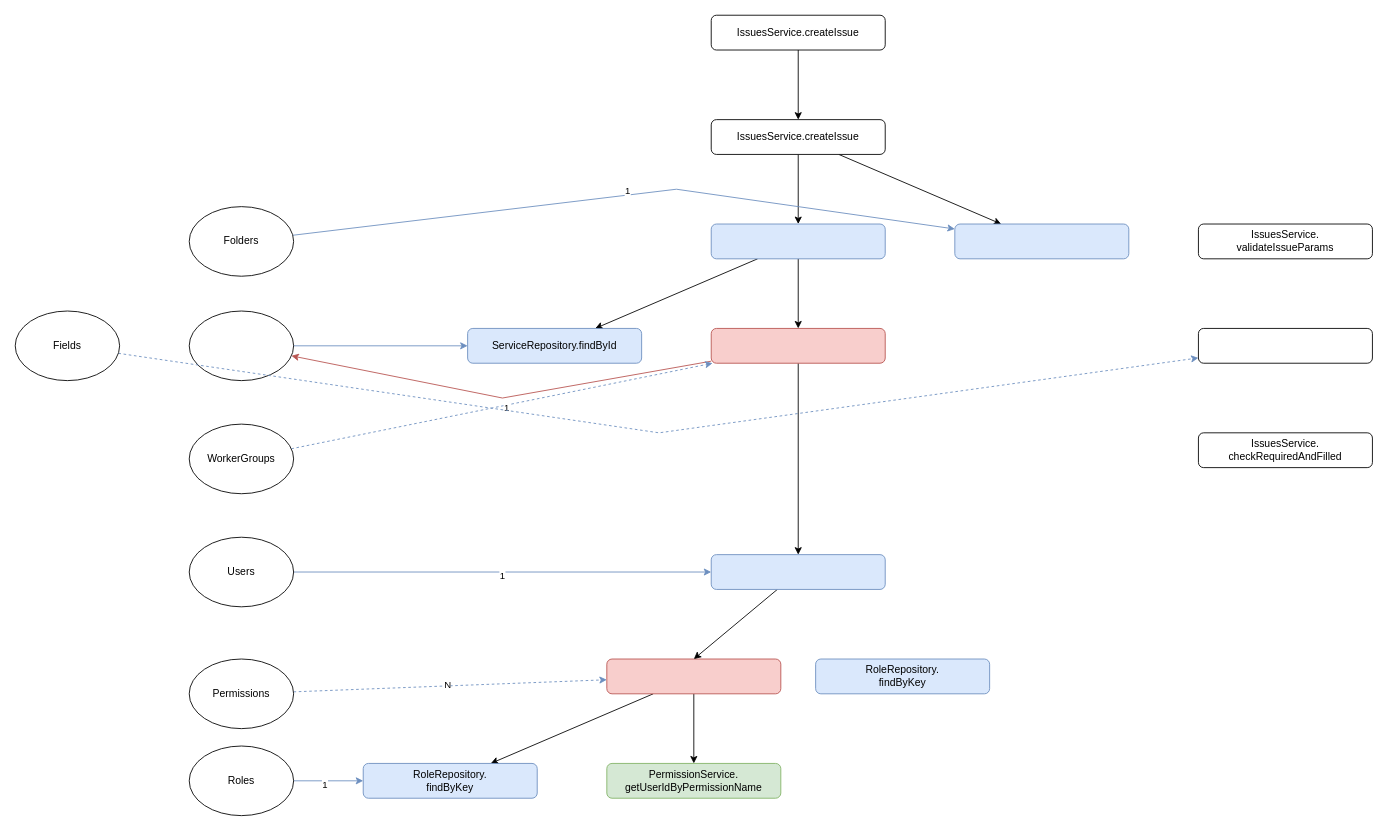
Image size: 1388x831. Some labels were removed from this diagram. Here are the shapes that lost their labels. From the top down, the box of each, then its label:
(710, 223, 885, 259): ServiceService.findService
(954, 223, 1129, 259): FolderRepository. findRootFolder
(188, 310, 294, 381): Services
(710, 328, 885, 363): ServiceRepository. prepareServicePermissions
(1198, 328, 1372, 363): IssuesService. checkThatRequiredFieldsArePassed
(710, 554, 885, 589): PermissionsService. getUsersByPermissionName
(606, 658, 781, 694): PermissionService. getUserIdListByPermissionName
